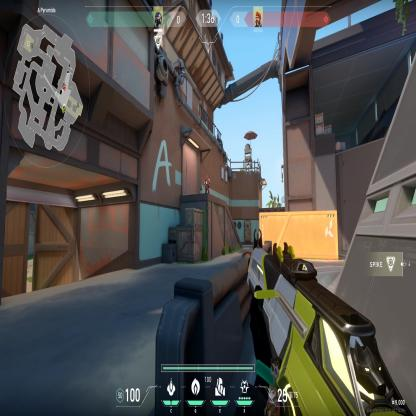enemy: (203, 173, 211, 195)
